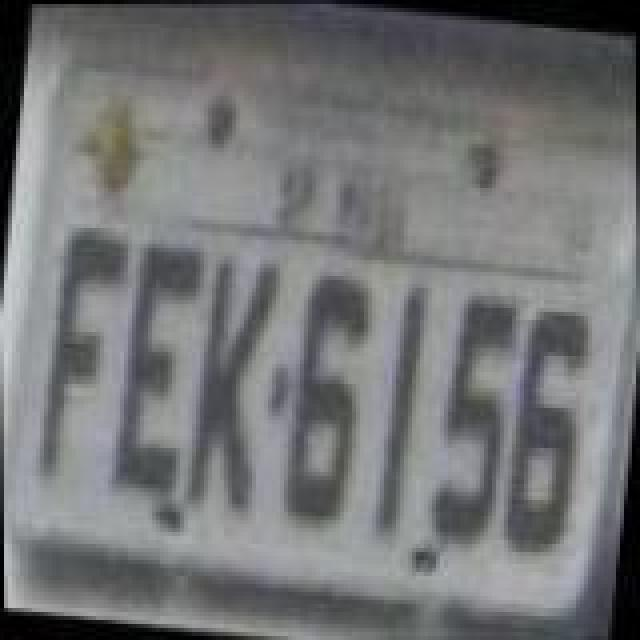1: (372, 280, 432, 536)
5: (424, 292, 524, 548)
6: (278, 262, 382, 526), (496, 302, 596, 562)
E: (108, 234, 212, 498)
F: (30, 212, 138, 484)
K: (180, 256, 288, 520)
